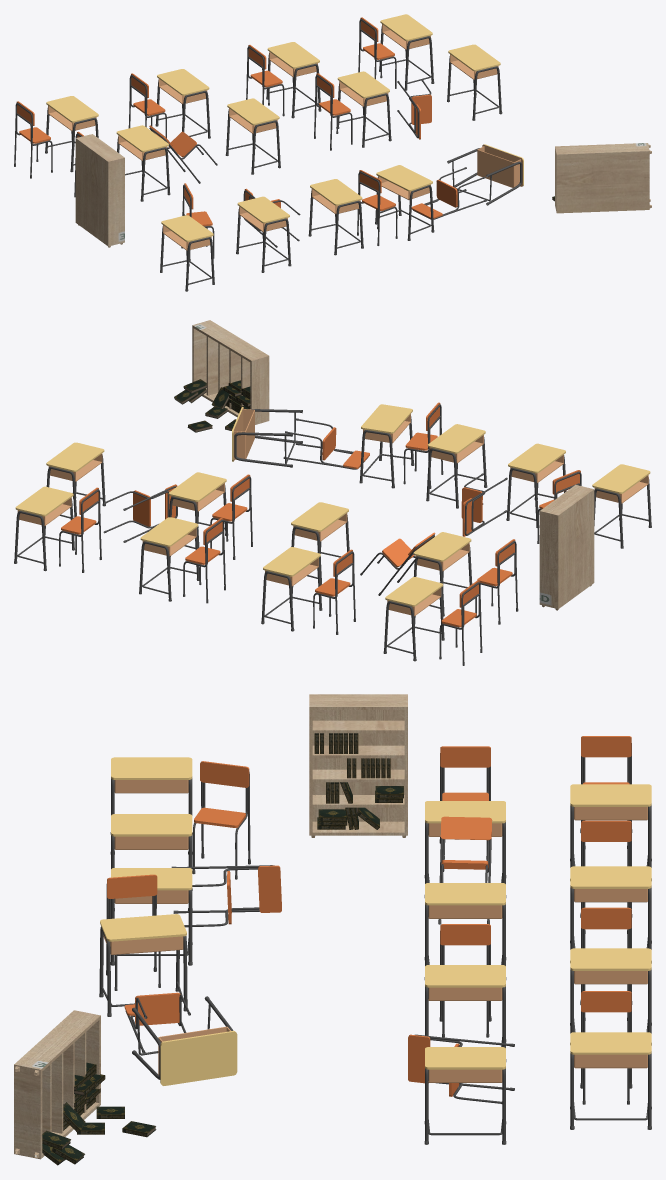
File: salon n5.fbx
3 views of the same model, one above another, from view 1: azimuth 30°, elevation 25°; view 2: azimuth 150°, elevation 25°; view 3: azimuth 270°, elevation 25° (orthographic). The views are drawn at different scales.
Visible parts, largest first — view 1: Cube.008, Bookcase.001, Mesa N40.024, Mesa N40.083, Mesa N40.006, Mesa N40.080, Mesa N40.082, Mesa N40.081, Mesa N40.084, Mesa N40.009, Mesa N40.005, Mesa N40.078 (+13 smaller); view 2: Cube.008, Bookcase.001, Mesa N40.083, Mesa N40.079, Mesa N40.078, Mesa N40.005, Mesa N40.010, Mesa N40.084, Mesa N40.081, Mesa N40.082, Mesa N40.006, Mesa N40.004 (+15 smaller); view 3: Bookcase.001, Cube.008, Mesa N40.024, Mesa N40.084, Mesa N40.005, Mesa N40.006, Mesa N40.010, Mesa N40.078, Mesa N40.079, Mesa N40.080, Mesa N40.009, Mesa N40.081 (+15 smaller).
Part boxes in pixels (bbox=[...]): Cube.008: bbox=[552, 143, 651, 213]; Bookcase.001: bbox=[75, 134, 124, 247]; Mesa N40.024: bbox=[447, 144, 523, 205]; Mesa N40.083: bbox=[308, 179, 363, 255]; Mesa N40.006: bbox=[447, 44, 502, 120]; Mesa N40.080: bbox=[225, 98, 280, 174]; Mesa N40.082: bbox=[236, 196, 291, 272]; Mesa N40.081: bbox=[160, 215, 214, 291]; Mesa N40.084: bbox=[375, 165, 434, 240]; Mesa N40.009: bbox=[336, 71, 391, 147]; Mesa N40.005: bbox=[379, 14, 434, 90]; Mesa N40.078: bbox=[155, 69, 210, 138]; Cube.008: bbox=[174, 320, 269, 432]; Bookcase.001: bbox=[539, 484, 594, 610]; Mesa N40.083: bbox=[426, 424, 487, 508]; Mesa N40.079: bbox=[383, 577, 444, 661]; Mesa N40.078: bbox=[261, 547, 322, 631]; Mesa N40.005: bbox=[14, 486, 74, 571]; Mesa N40.010: bbox=[139, 517, 199, 601]; Mesa N40.084: bbox=[359, 404, 414, 488]; Mesa N40.081: bbox=[592, 464, 651, 548]; Mesa N40.082: bbox=[506, 443, 566, 527]; Mesa N40.006: bbox=[46, 442, 105, 518]; Mesa N40.004: bbox=[413, 532, 472, 616]; Bookcase.001: bbox=[309, 694, 407, 837]; Cube.008: bbox=[14, 1010, 156, 1165]; Mesa N40.024: bbox=[132, 996, 237, 1085]; Mesa N40.084: bbox=[99, 914, 187, 1016]; Mesa N40.005: bbox=[570, 1032, 651, 1129]; Mesa N40.006: bbox=[424, 1047, 506, 1144]; Mesa N40.010: bbox=[570, 948, 651, 1045]; Mesa N40.078: bbox=[570, 866, 651, 963]; Mesa N40.079: bbox=[570, 784, 651, 880]; Mesa N40.080: bbox=[424, 883, 506, 979]; Mesa N40.009: bbox=[425, 965, 506, 1061]; Mesa N40.081: bbox=[110, 757, 192, 854].
Size of the model in its own units: 1239 by 231 by 986.
7 materials, 2 textured.
